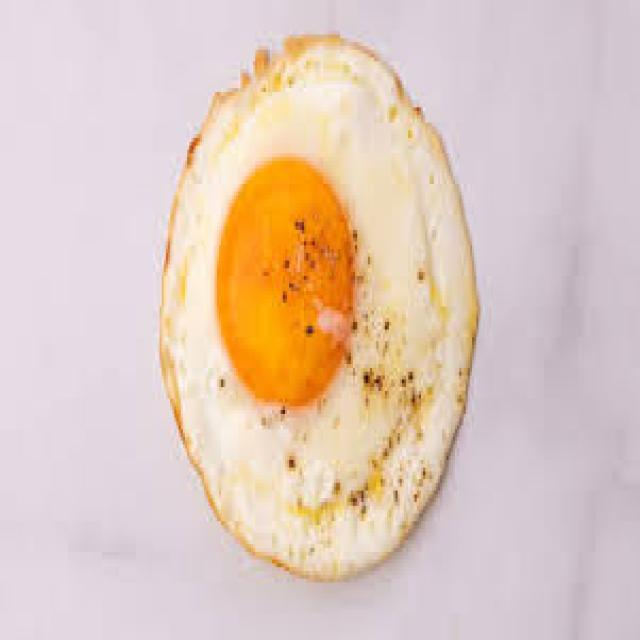Egg: (160, 36, 476, 578)
